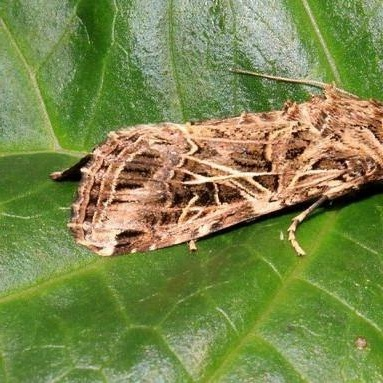Spodoptera litura: (49, 68, 382, 257)
